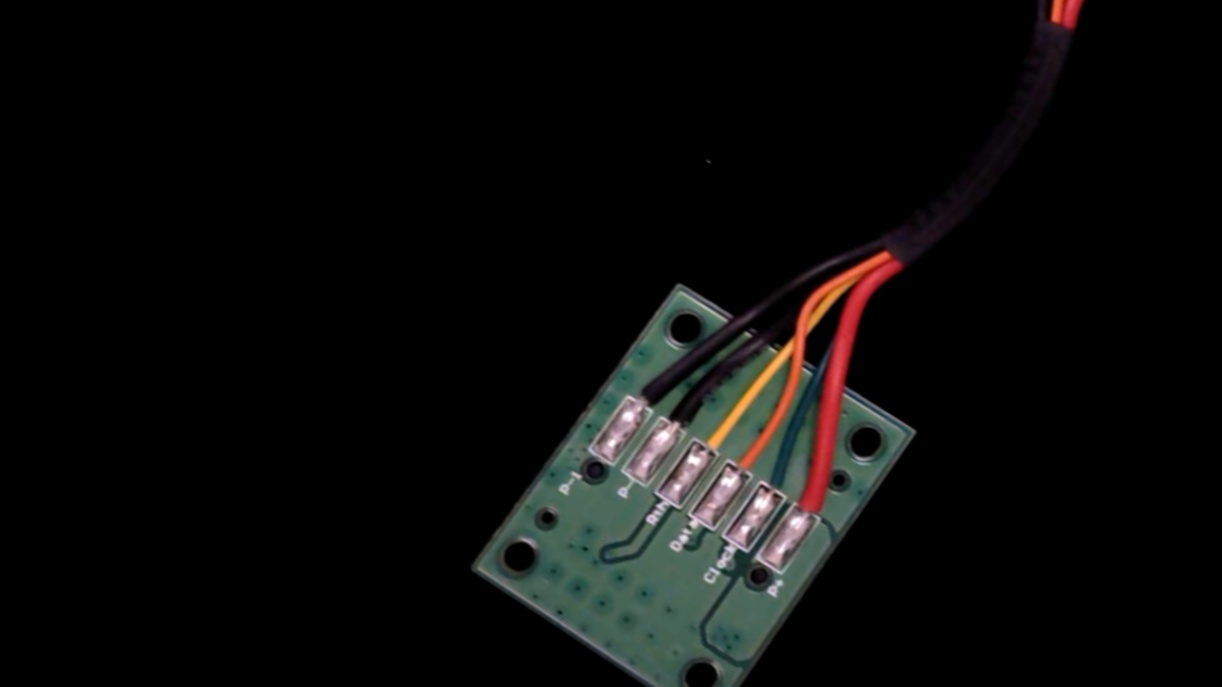Black: (648, 375, 718, 449)
Black1: (615, 359, 680, 427)
Green: (750, 444, 816, 514)
Orange: (718, 422, 782, 492)
Red: (784, 454, 855, 532)
Yellow: (682, 395, 752, 471)
